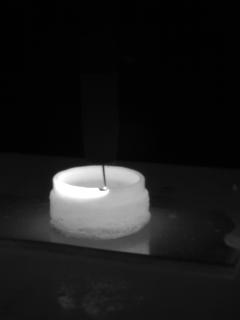tip_wire_left: (86, 159, 107, 190)
tip_wire_right: (103, 158, 116, 190)
